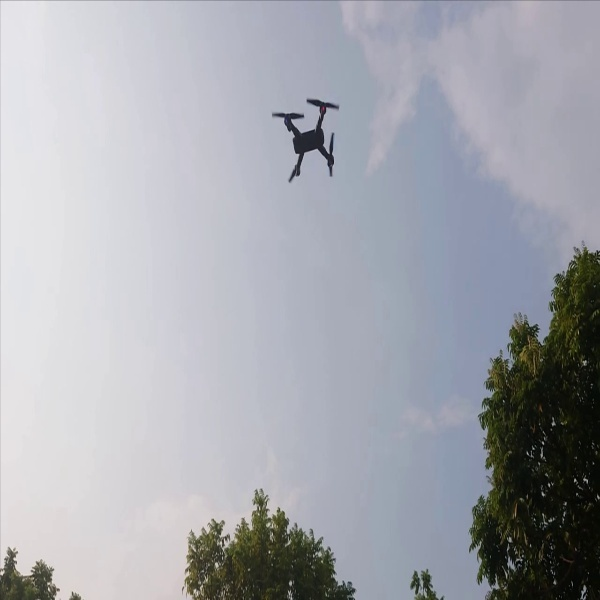drone: (263, 89, 346, 185)
